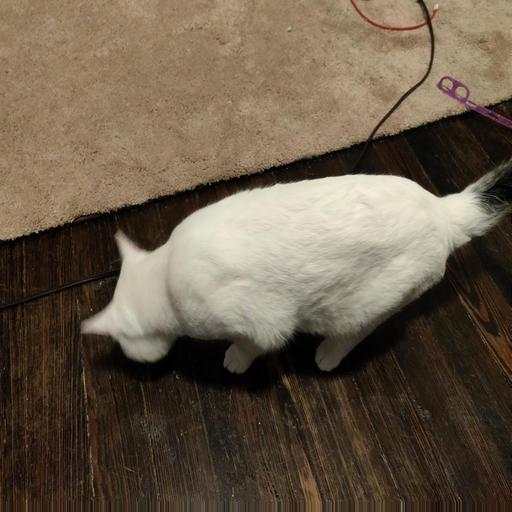cat: (81, 168, 285, 372)
